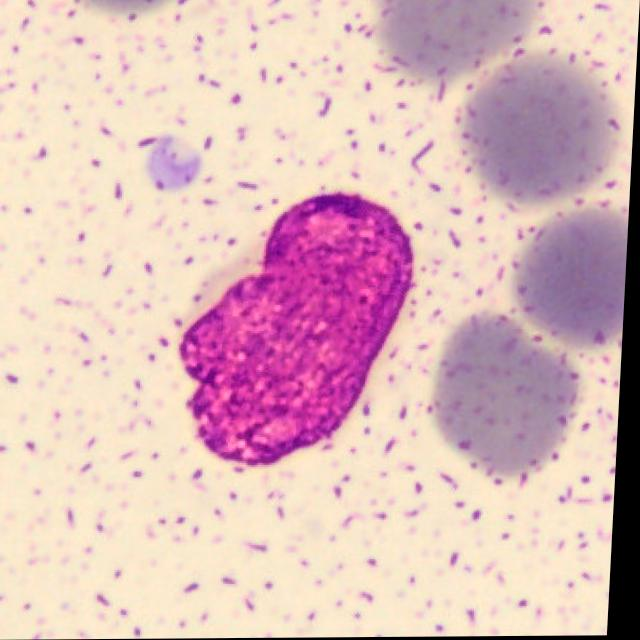Mieloblasto: (183, 195, 418, 469)
